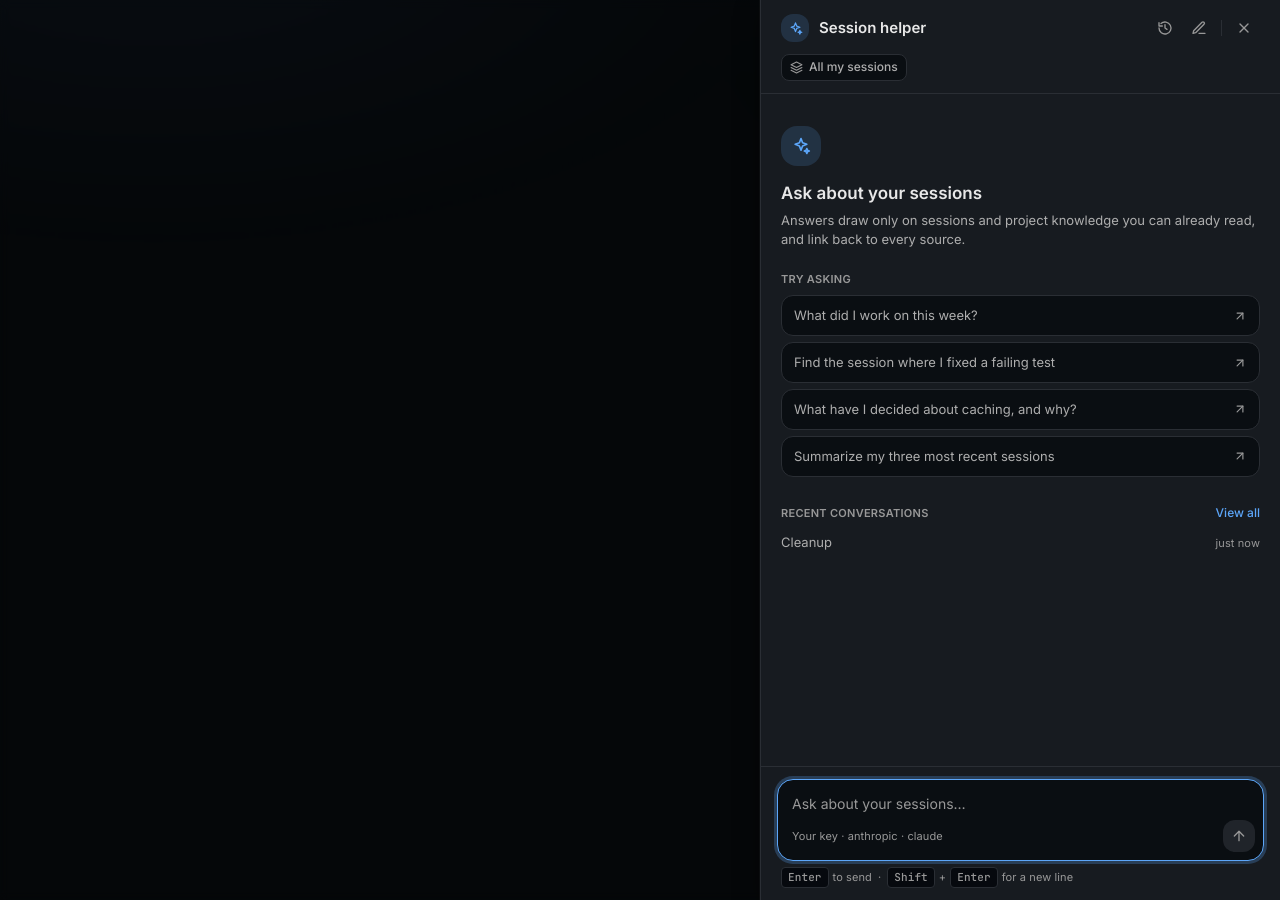
Test: HelperPanel — write actions › recovers a proposal from a restored thread and reads its status
What coordinates should you click on to do the following:
click the button "Cleanup just now"
I would click on:
 (806, 542)
Its box is [773,527,1268,558].
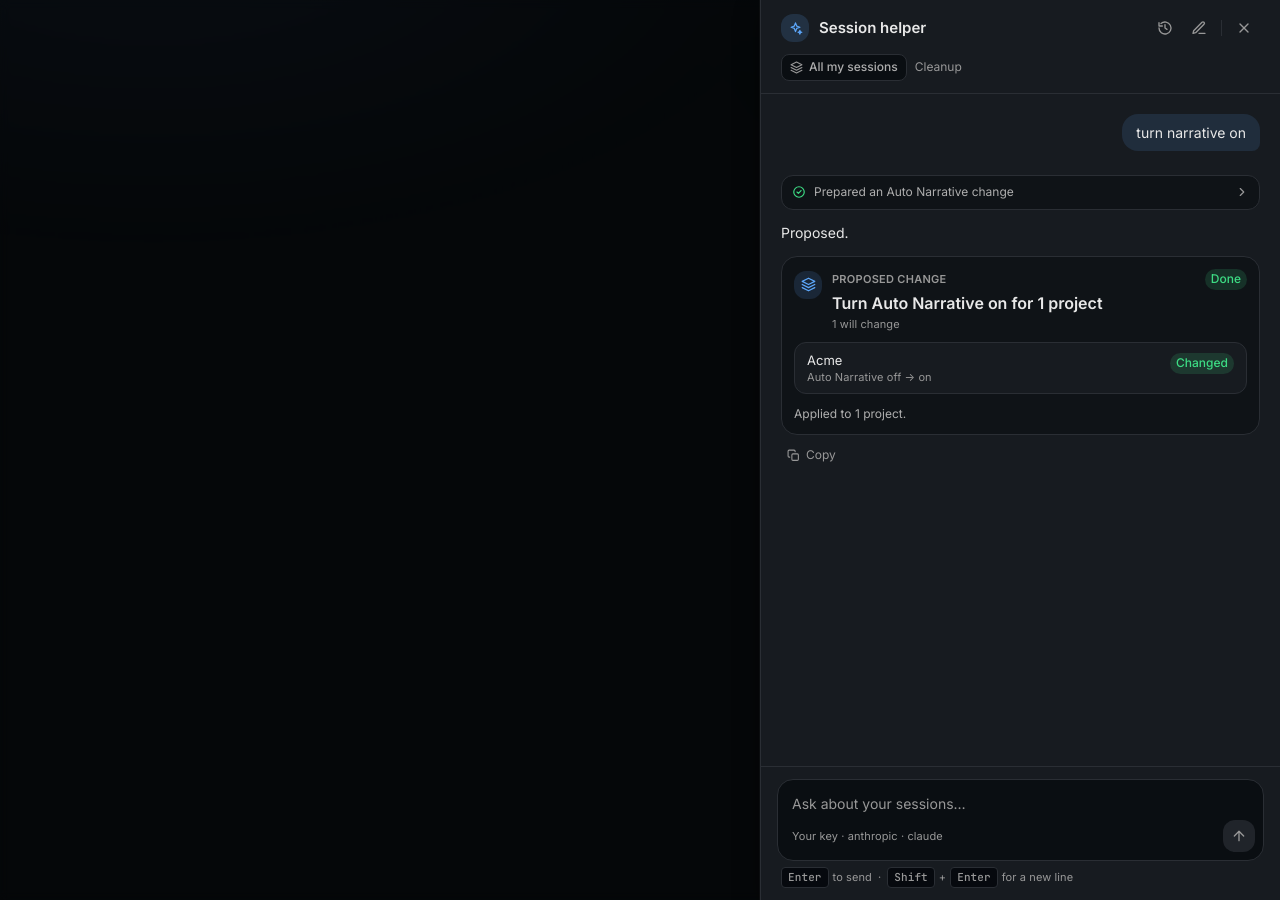
Expected: the heading "Turn Auto Narrative on for 1 project" is shown, [832,293,1102,313]
Expected: the text "Done" is shown, [1205,269,1247,290]
